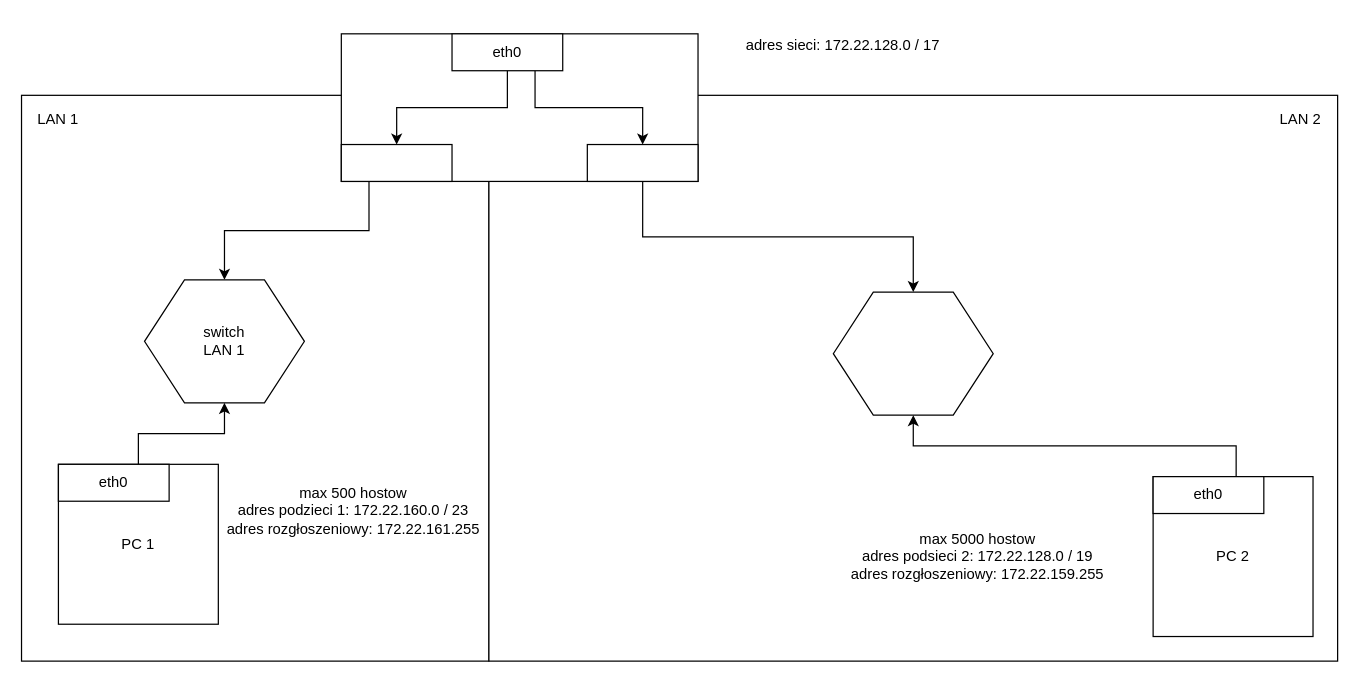
Some shapes in this 1359 by 683 pixel diagram are drawn without their labels. The shapes that lost their labels are listed below. From the top down, each one's centre as x and y in pixels, then its label:
pixel 396 162: eth1
pixel 642 162: eth2
pixel 912 353: switch LAN 2
